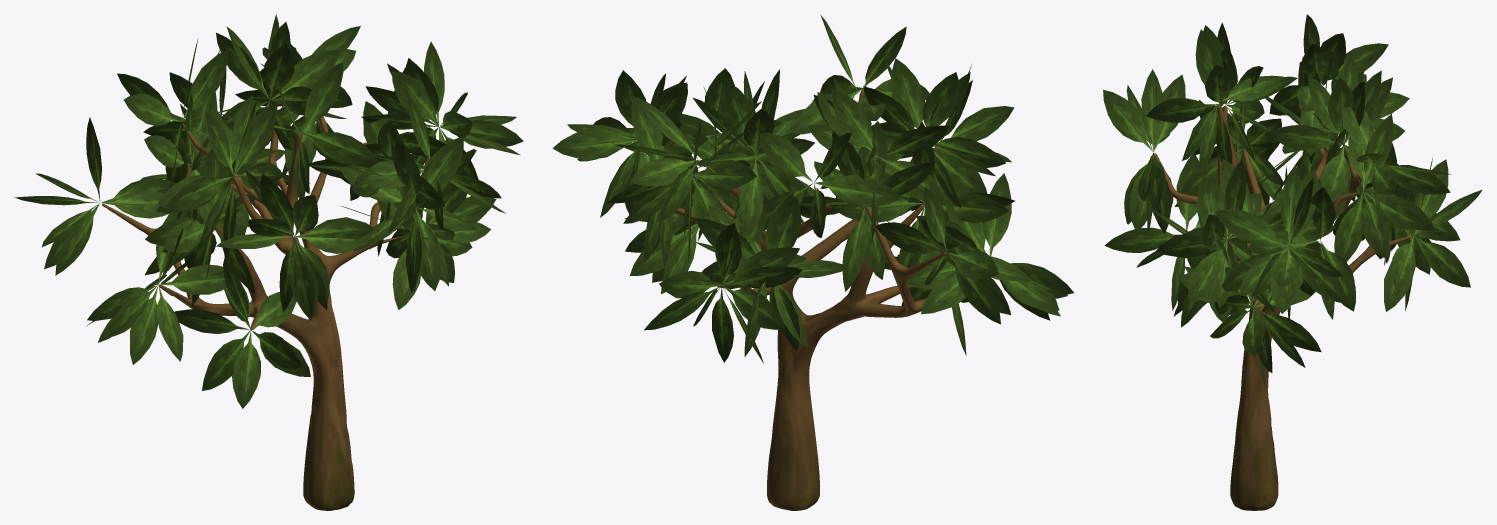
Rendered from magnoliatree.fbx.
3 views of the same model, side by side, from view 1: azimuth 30°, elevation 25°; view 2: azimuth 150°, elevation 25°; view 3: azimuth 270°, elevation 25° (orthographic). The views are drawn at different scales.
Parts seen in each view (by area): view 1: Plane; view 2: Plane; view 3: Plane.
Part boxes in pixels (x1,y1,x2,y2): Plane: (14, 14, 523, 510); Plane: (552, 14, 1073, 510); Plane: (1103, 14, 1482, 510).
Size of the model in its own units: 1170 by 1112 by 873.
